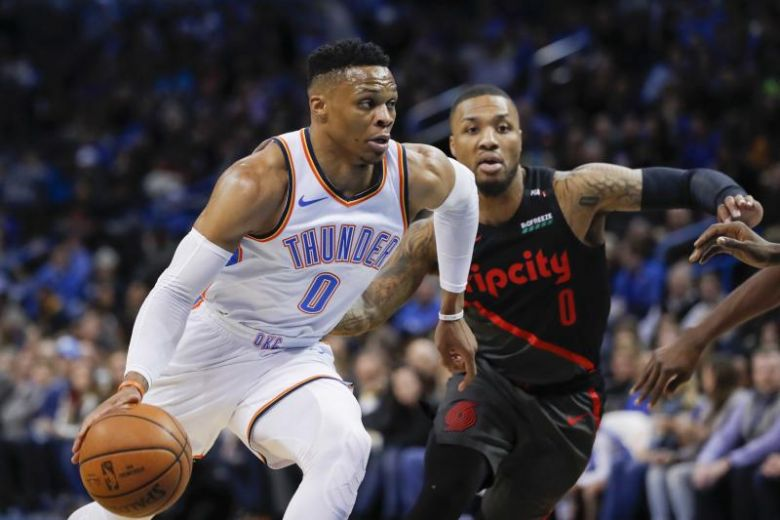Basketball: (75, 402, 197, 517)
